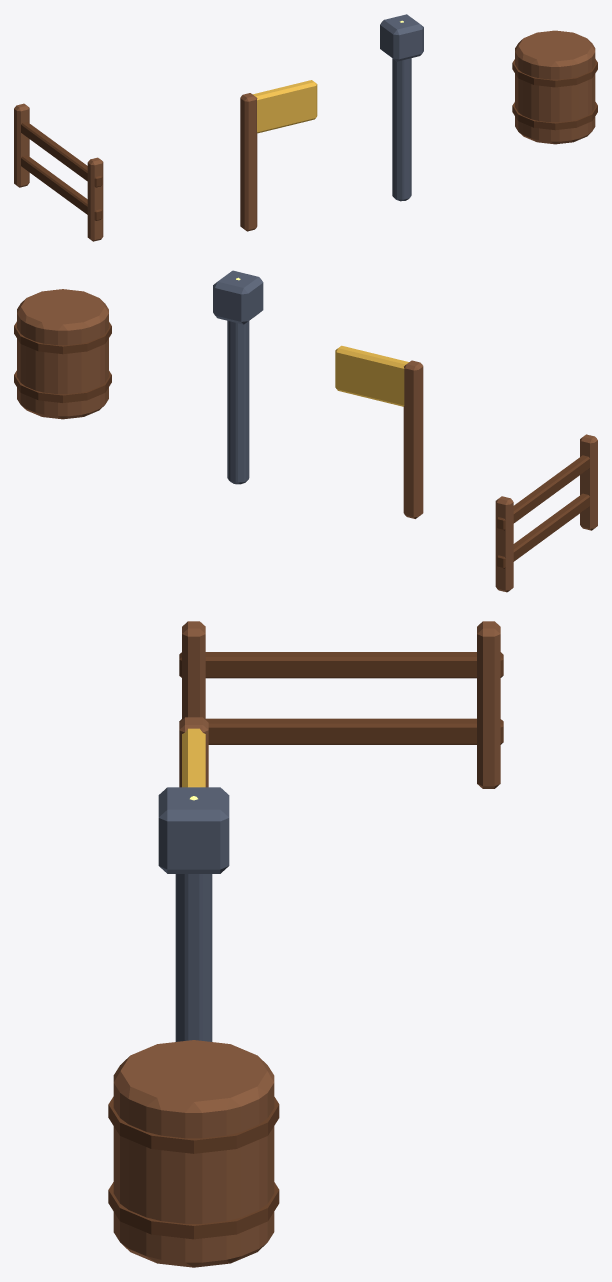
File: SM_Dressing_PropsKit.fbx
3 views of the same model, one above another, from view 1: azimuth 30°, elevation 25°; view 2: azimuth 150°, elevation 25°; view 3: azimuth 270°, elevation 25° (orthographic). The views are drawn at different scales.
Parts seen in each view (by area): view 1: SM_prop_barrel, SM_prop_signpost, SM_prop_fence, SM_prop_lamp; view 2: SM_prop_barrel, SM_prop_signpost, SM_prop_lamp, SM_prop_fence; view 3: SM_prop_barrel, SM_prop_fence, SM_prop_lamp, SM_prop_signpost.
Boxes of the visible parts, <box> form: SM_prop_barrel: <box>512,30,597,144</box>; SM_prop_signpost: <box>240,80,317,231</box>; SM_prop_fence: <box>14,103,103,241</box>; SM_prop_lamp: <box>380,14,423,201</box>; SM_prop_barrel: <box>14,289,111,419</box>; SM_prop_signpost: <box>335,345,423,518</box>; SM_prop_lamp: <box>213,270,263,484</box>; SM_prop_fence: <box>495,434,597,592</box>; SM_prop_barrel: <box>108,1040,279,1267</box>; SM_prop_fence: <box>179,621,503,788</box>; SM_prop_lamp: <box>158,787,229,1041</box>; SM_prop_signpost: <box>179,717,208,787</box>.
Bounding box in the file's own units: 3.94 × 1.33 × 1.34.
